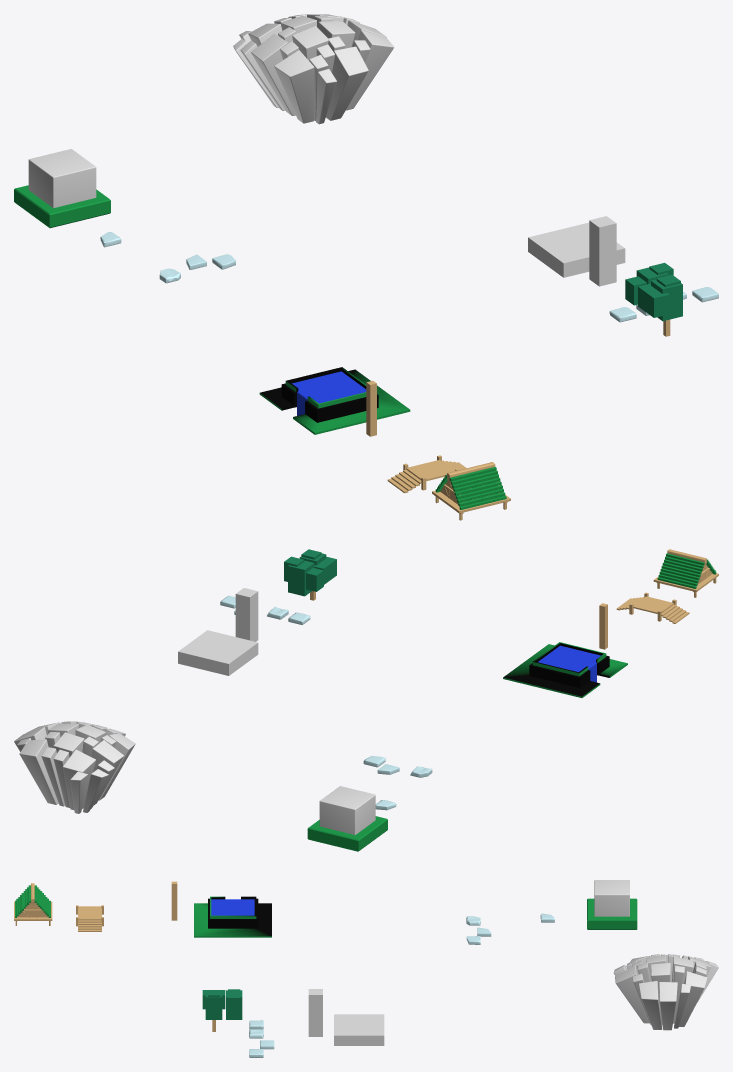
File: Box_Floor_07.fbx
3 renders of one model, top to bottom at view 1: azimuth 30°, elevation 25°; view 2: azimuth 150°, elevation 25°; view 3: azimuth 270°, elevation 25°, orthographic. The views are drawn at different scales.
Parts seen in each view (by area): view 1: Box_Grass_01, Box_Lake_01_1, Round_Blue_01, 对象010, Round_Blue_02, 对象002, Box_Build_01_2, Box_Tree_01_1, Box_Lake_01_2, Box_Brige_01, Box_Build_01_1, Box_Tree_02_1; view 2: Box_Grass_01, Box_Lake_01_1, 对象010, Round_Blue_01, Round_Blue_02, Box_Build_01_2, Box_Tree_02_1, 对象002, Box_Lake_01_2, Box_Brige_01, Box_Build_01_1, Box_Tree_01_1; view 3: Box_Grass_01, Box_Lake_01_1, 对象010, Round_Blue_01, Round_Blue_02, Box_Lake_01_2, 对象002, Box_Brige_01, Box_Tree_01_1, Box_Build_01_2, Box_Tree_02_1, Box_Build_01_1.
Boxes of the visible parts, left/top/right/bottom form: Box_Grass_01: left=233, top=14, right=394, bottom=124; Box_Lake_01_1: left=259, top=367, right=410, bottom=434; Round_Blue_01: left=28, top=149, right=96, bottom=207; 对象010: left=528, top=222, right=625, bottom=277; Round_Blue_02: left=14, top=185, right=110, bottom=228; 对象002: left=589, top=216, right=616, bottom=286; Box_Build_01_2: left=435, top=467, right=506, bottom=509; Box_Tree_01_1: left=638, top=275, right=682, bottom=321; Box_Lake_01_2: left=292, top=371, right=366, bottom=415; Box_Brige_01: left=387, top=455, right=466, bottom=493; Box_Build_01_1: left=432, top=462, right=510, bottom=520; Box_Tree_02_1: left=625, top=262, right=673, bottom=305; Box_Grass_01: left=14, top=721, right=135, bottom=813; Box_Lake_01_1: left=503, top=642, right=627, bottom=697; 对象010: left=178, top=630, right=258, bottom=675; Round_Blue_01: left=319, top=786, right=375, bottom=834; Round_Blue_02: left=307, top=816, right=387, bottom=851; Box_Build_01_2: left=657, top=553, right=716, bottom=588; Box_Tree_02_1: left=284, top=556, right=323, bottom=596; 对象002: left=235, top=588, right=258, bottom=641; Box_Lake_01_2: left=538, top=645, right=600, bottom=682; Box_Brige_01: left=616, top=592, right=689, bottom=623; Box_Build_01_1: left=653, top=549, right=718, bottom=597; Box_Tree_01_1: left=299, top=549, right=336, bottom=584; Box_Grass_01: left=613, top=954, right=718, bottom=1030; Box_Lake_01_1: left=194, top=896, right=271, bottom=937; 对象010: left=334, top=1014, right=384, bottom=1045; Round_Blue_01: left=594, top=880, right=629, bottom=916; Round_Blue_02: left=587, top=898, right=637, bottom=929; Box_Lake_01_2: left=211, top=899, right=254, bottom=915; 对象002: left=308, top=989, right=322, bottom=1036; Box_Brige_01: left=76, top=905, right=103, bottom=931; Box_Tree_01_1: left=202, top=990, right=225, bottom=1019; Box_Build_01_2: left=15, top=885, right=50, bottom=917; Box_Tree_02_1: left=226, top=989, right=242, bottom=1019; Box_Build_01_1: left=14, top=883, right=52, bottom=925.
Bounding box in the file's own units: 511 × 104 × 994.
